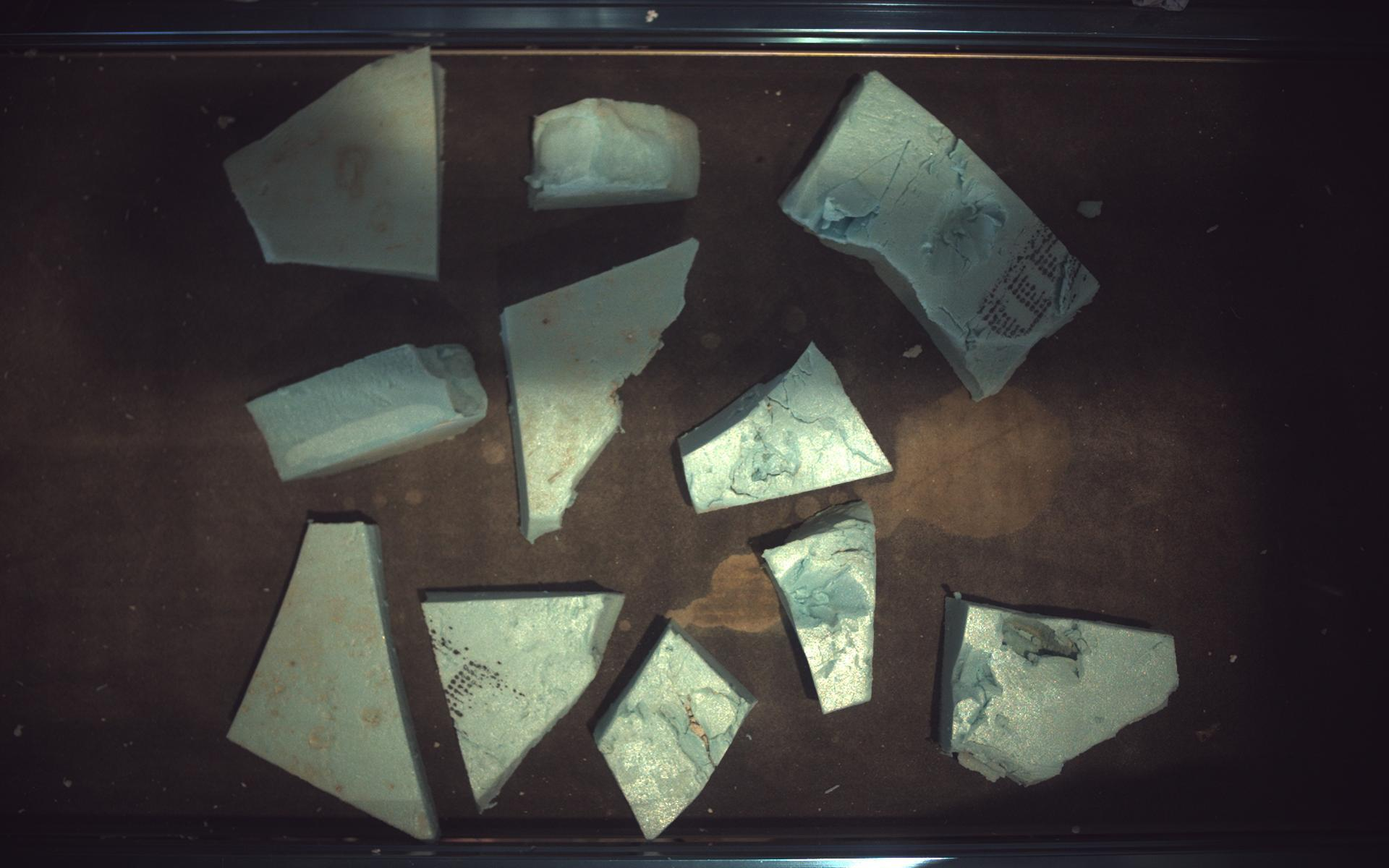foam: (782, 70, 1101, 400), (226, 522, 438, 842), (501, 238, 700, 542), (224, 46, 443, 279), (938, 594, 1181, 787), (422, 590, 624, 812), (679, 344, 893, 513), (595, 622, 757, 841), (247, 344, 488, 481), (764, 503, 877, 712), (527, 97, 701, 209)
